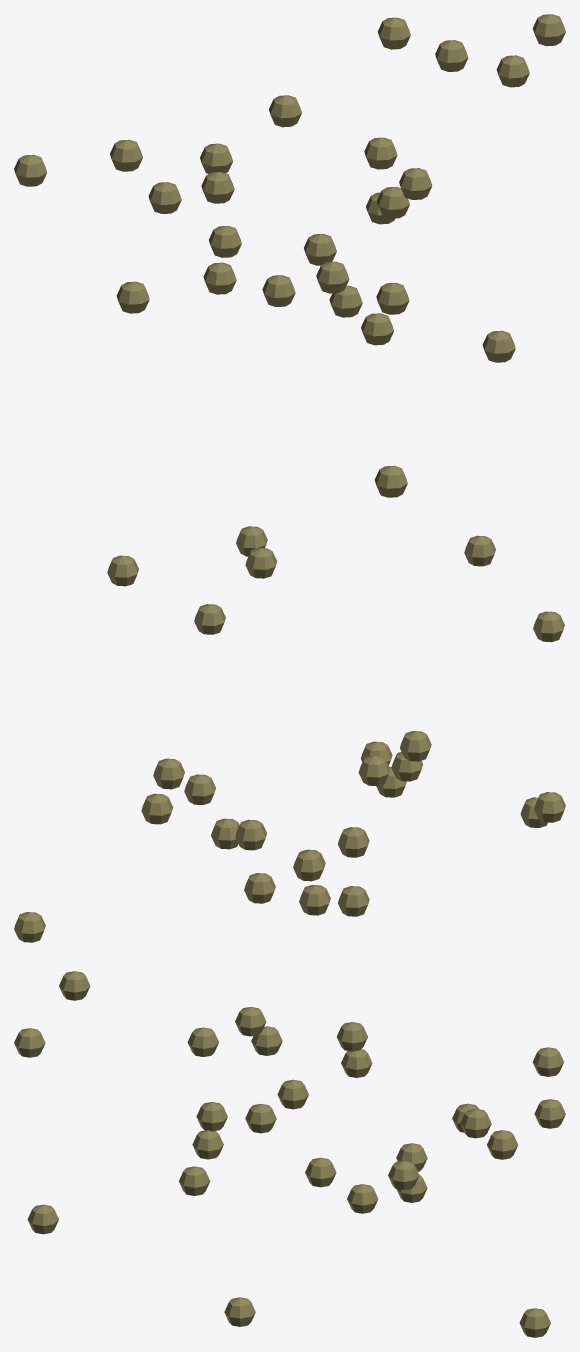
The model's file is SM_MP_Spore_Cloud.fbx.
3 views of the same model, one above another, from view 1: azimuth 30°, elevation 25°; view 2: azimuth 150°, elevation 25°; view 3: azimuth 270°, elevation 25° (orthographic). The views are drawn at different scales.
Visible parts, largest first — view 1: SM_MP_Spore_Cloud; view 2: SM_MP_Spore_Cloud; view 3: SM_MP_Spore_Cloud.
Boxes of the visible parts, bbox=[...] form: SM_MP_Spore_Cloud: bbox=[14, 14, 565, 497]; SM_MP_Spore_Cloud: bbox=[14, 526, 565, 942]; SM_MP_Spore_Cloud: bbox=[14, 971, 565, 1337].
Bounding box in the file's own units: 463 × 524 × 319.
1 material, 1 textured.
